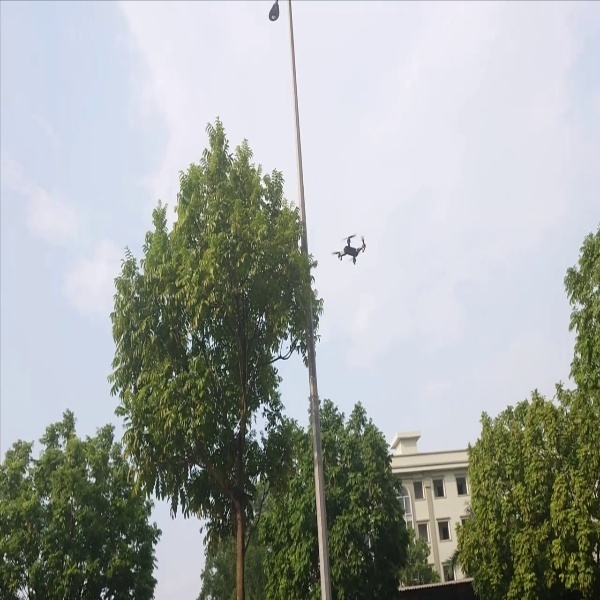drone: (330, 222, 375, 270)
